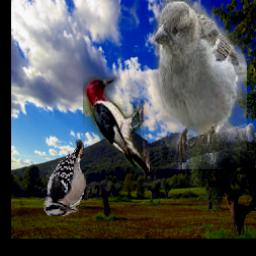Sparrow: (154, 0, 248, 169)
Woodpecker: (83, 78, 150, 178), (45, 141, 96, 217)
